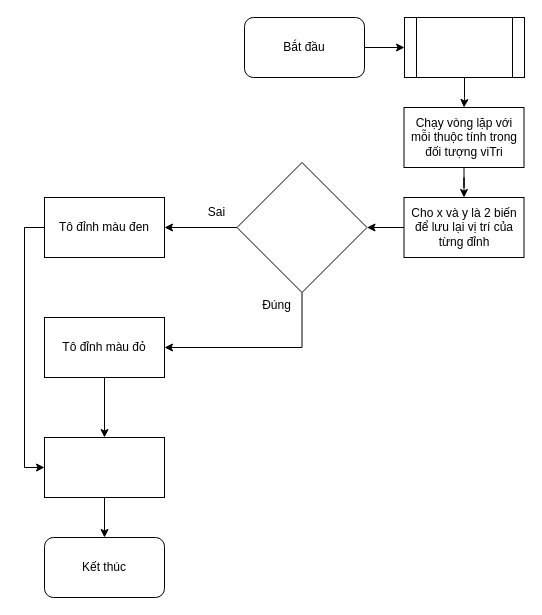
Some shapes in this 542 by 615 pixel diagram are drawn without their labels. The shapes that lost their labels are listed below. From the top down, each one's box as (x1, y1, x2, y2) in pixels, then its label:
(404, 16, 524, 78): demBac
(236, 162, 367, 292): Nếu bậc đỉnh đó là bậc lẻ
(44, 436, 164, 498): Vẽ ra đỉnh đó ở vị trí x, y
